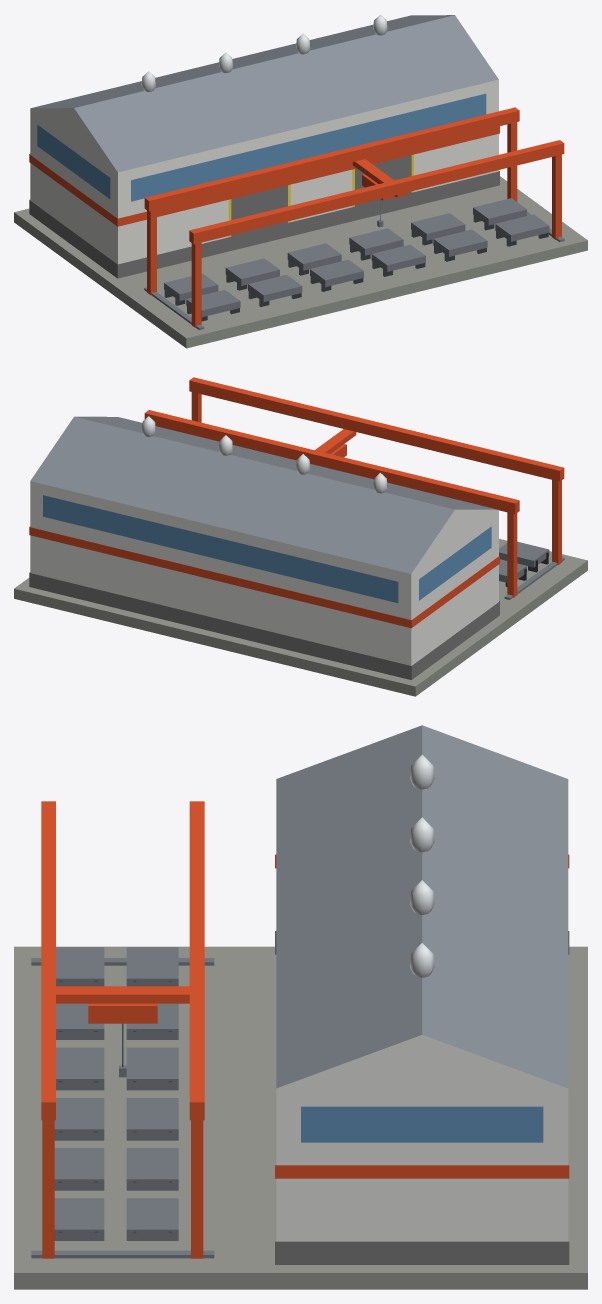
File: mashup-bogie-top-prebuilt.fbx
The picture shows the model from 3 angles, top to bottom: view 1: azimuth 30°, elevation 25°; view 2: azimuth 150°, elevation 25°; view 3: azimuth 270°, elevation 25°; orthographic projection. The views are drawn at different scales.
Visible parts, largest first — view 1: a1082/0/mashup-bogie-top-prebuilt; view 2: a1082/0/mashup-bogie-top-prebuilt; view 3: a1082/0/mashup-bogie-top-prebuilt.
Part boxes in pixels (x1,y1,x2,y2): a1082/0/mashup-bogie-top-prebuilt: (14,14,587,348); a1082/0/mashup-bogie-top-prebuilt: (14,377,587,696); a1082/0/mashup-bogie-top-prebuilt: (14,725,587,1289).
Size of the model in its own units: 31.2 by 12.4 by 23.2.
